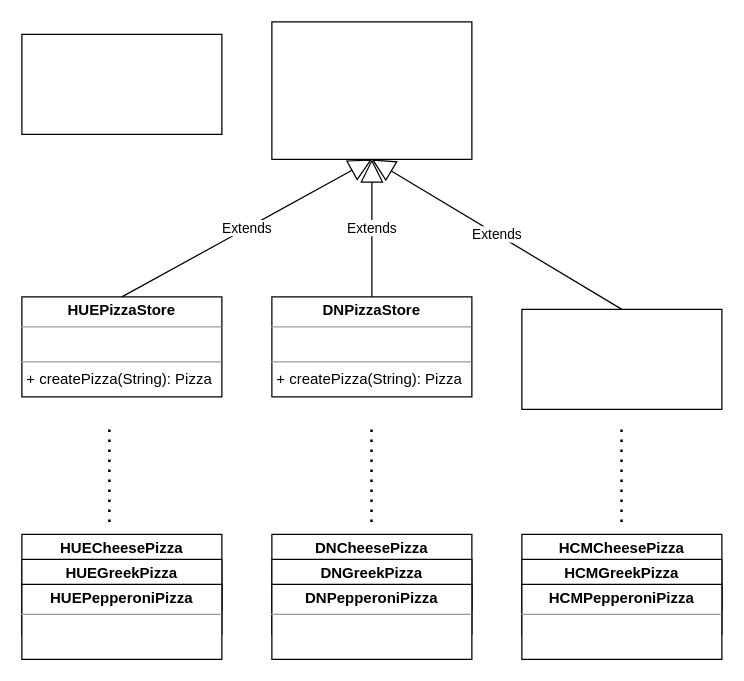
Image size: 744x681. Some labels were removed from this diagram. Here are the shapes that lost their labels. From the top down, the centre of each, then its label:
point (121, 83): PizzaStore + createPizza(String): Pizza
point (371, 90): «interface» PizzaStore + orderPizza(String): void + createPizza(String): Pizza
point (621, 358): HCMPizzaStore + createPizza(String): Pizza
